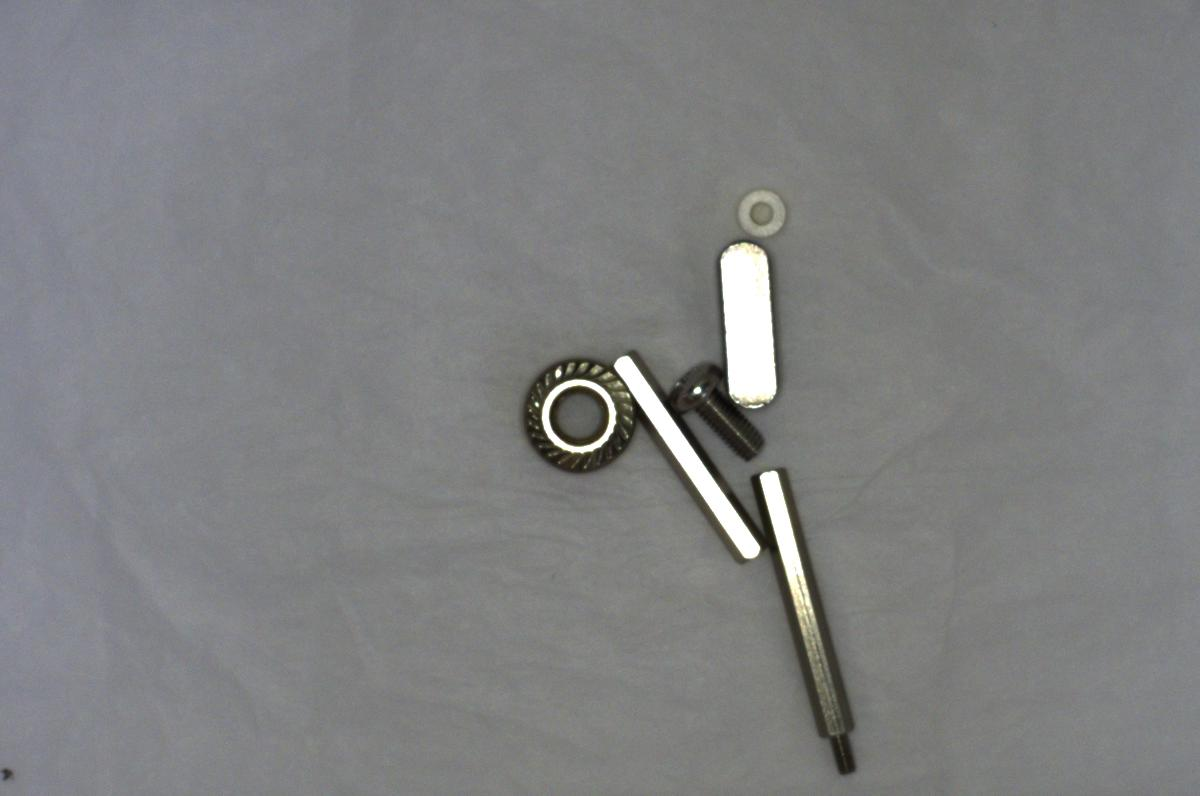Double hexagonal column: (614, 344, 758, 564)
Flange nut: (498, 348, 641, 482)
Hexagonal steel column: (750, 456, 864, 778)
Keybar: (712, 240, 784, 414)
Plastic cushion pillar: (732, 182, 791, 240)
Round head screw: (665, 359, 770, 465)
